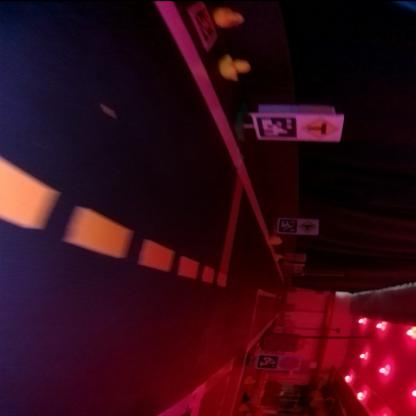Duckie: (222, 56, 250, 80), (214, 7, 245, 26), (272, 236, 282, 244)
Intersection sign: (304, 118, 340, 139), (300, 221, 318, 232)
QR code: (188, 3, 218, 52), (257, 116, 299, 139), (258, 354, 278, 368), (280, 218, 298, 233)
